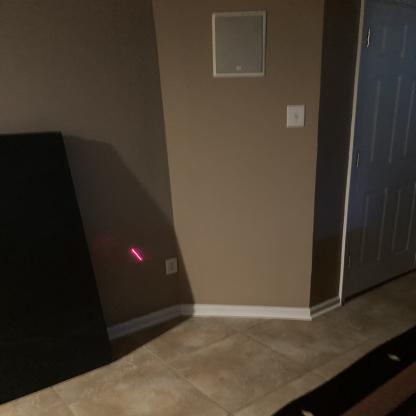target: (123, 244, 143, 263)
